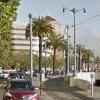Car: (1, 70, 45, 100)
